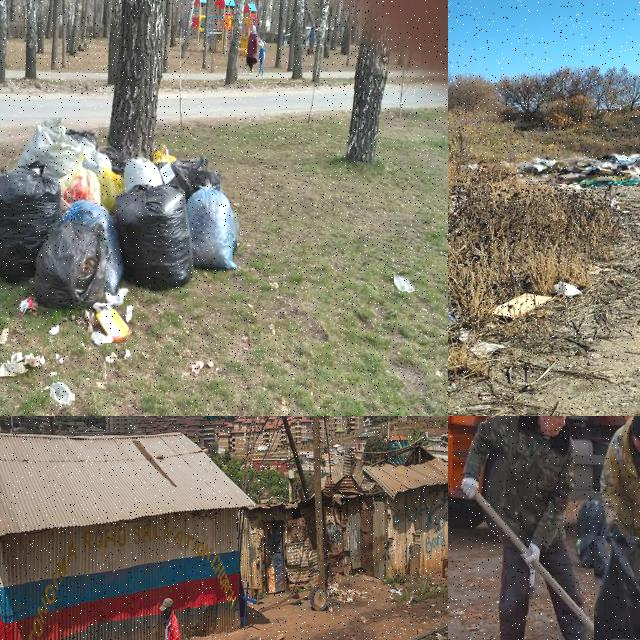lixeira: (0, 117, 240, 310), (518, 146, 639, 186), (594, 536, 639, 639), (575, 498, 615, 570), (84, 302, 133, 344), (0, 351, 46, 378), (49, 383, 76, 405), (394, 275, 416, 293)
